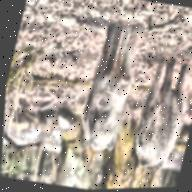boar: (62, 11, 166, 160)
